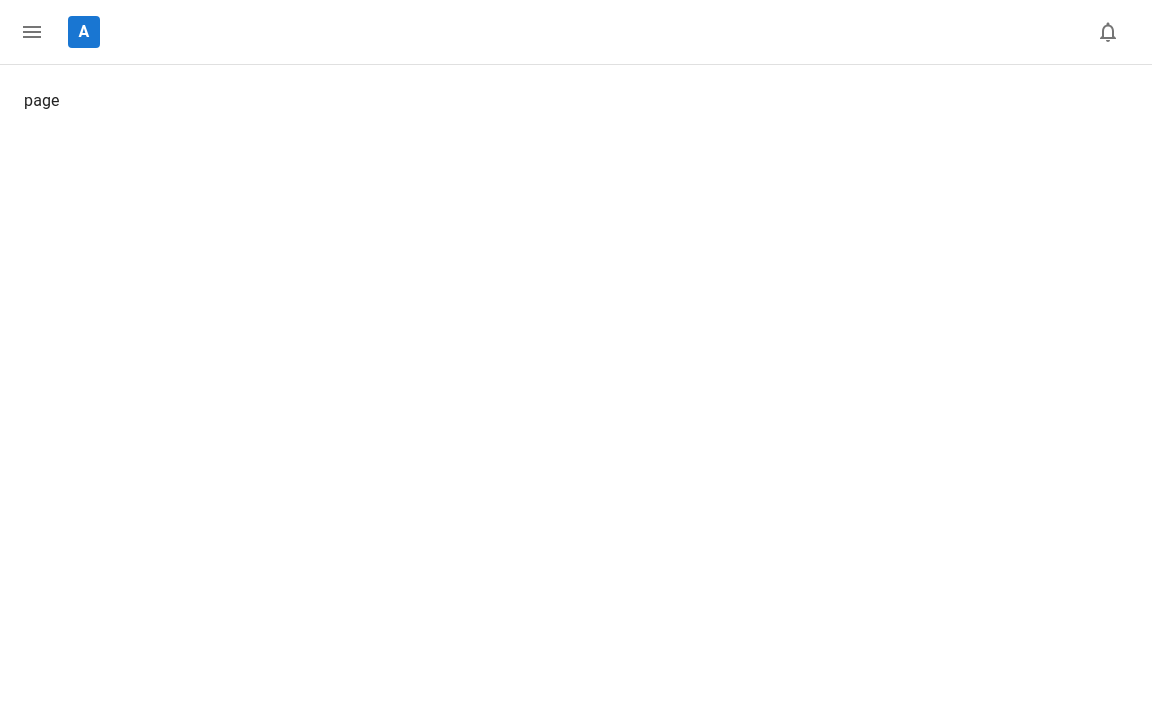
Test case: AppLayout › phone: collapses the nav and sign out into a menu
Later steps or results of the test are not shown.
Click the button named "Open menu" at (32, 32), box [12,12,52,52]
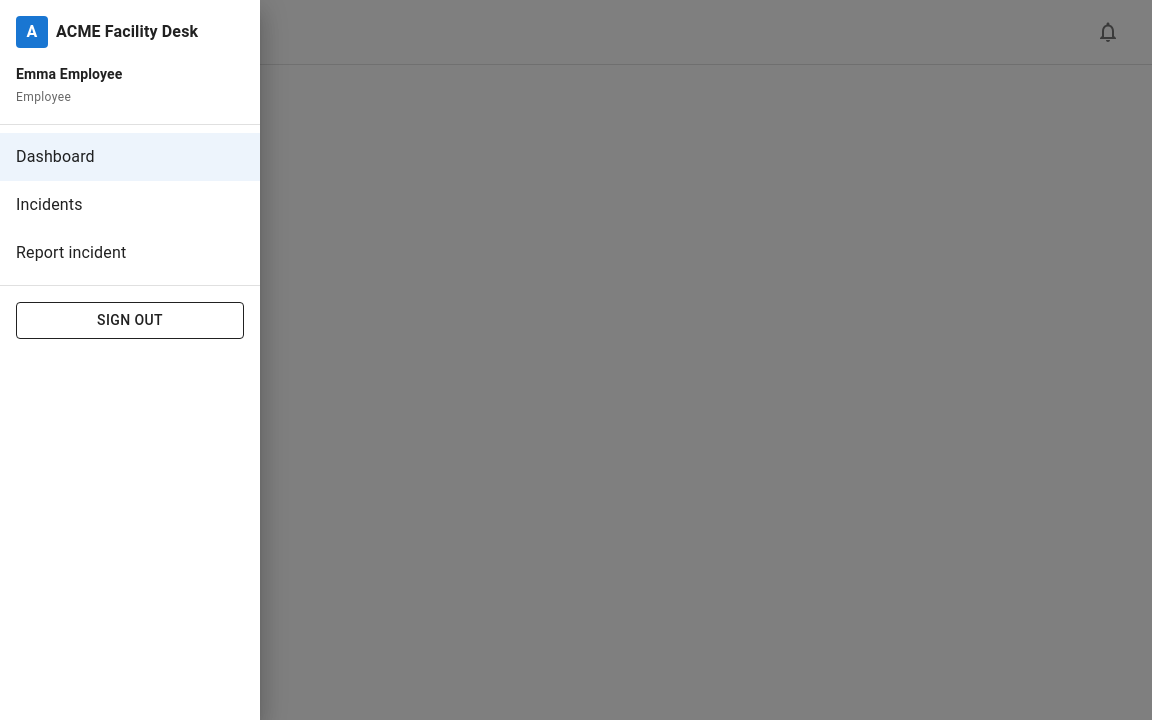
Expected: the navigation bar named "Main" does not show "Facilities", [0,125,260,285]
Now the link "Report incident" is shown, box [16,243,126,262]
